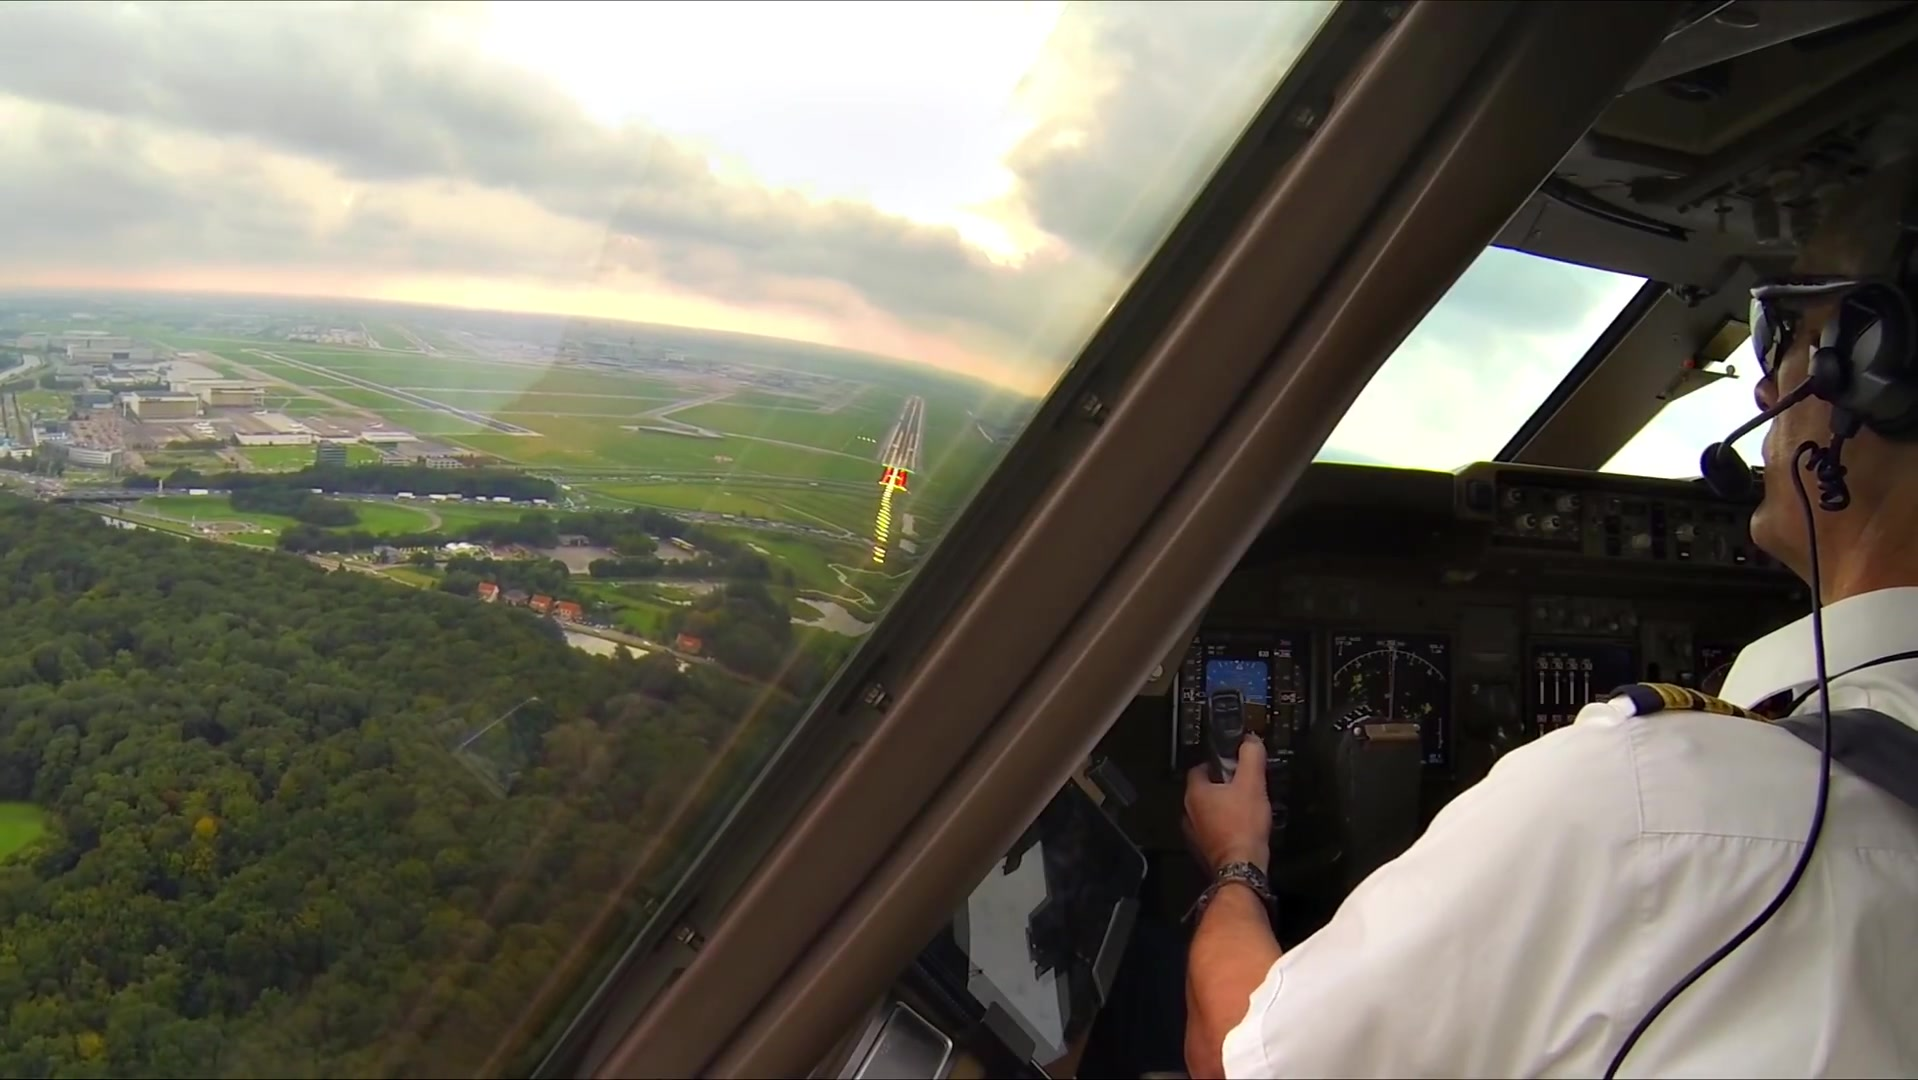runway: (873, 390, 939, 477)
